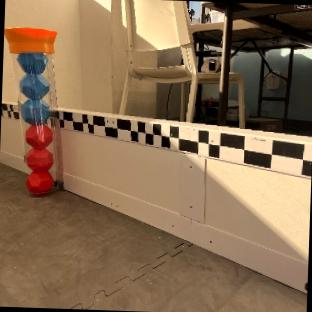V5_BLUE: (19, 52, 50, 124), (21, 99, 50, 123)
V5_RED: (27, 148, 52, 193), (25, 124, 51, 148)
